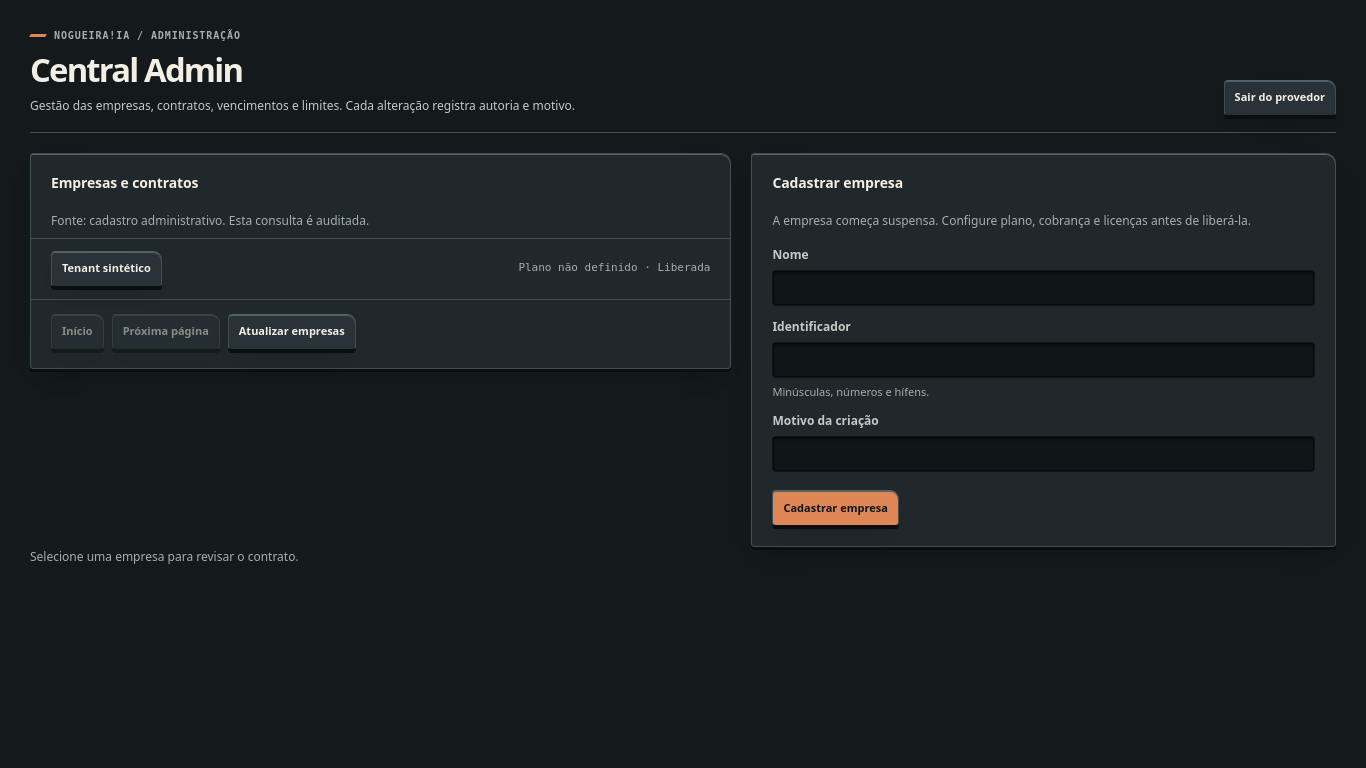
Test: entitlement changes carry the expected version and surface conflicts
Click the button "Tenant sintético".
click(106, 269)  # box left=51, top=251, right=162, bottom=287
(page scrolled)
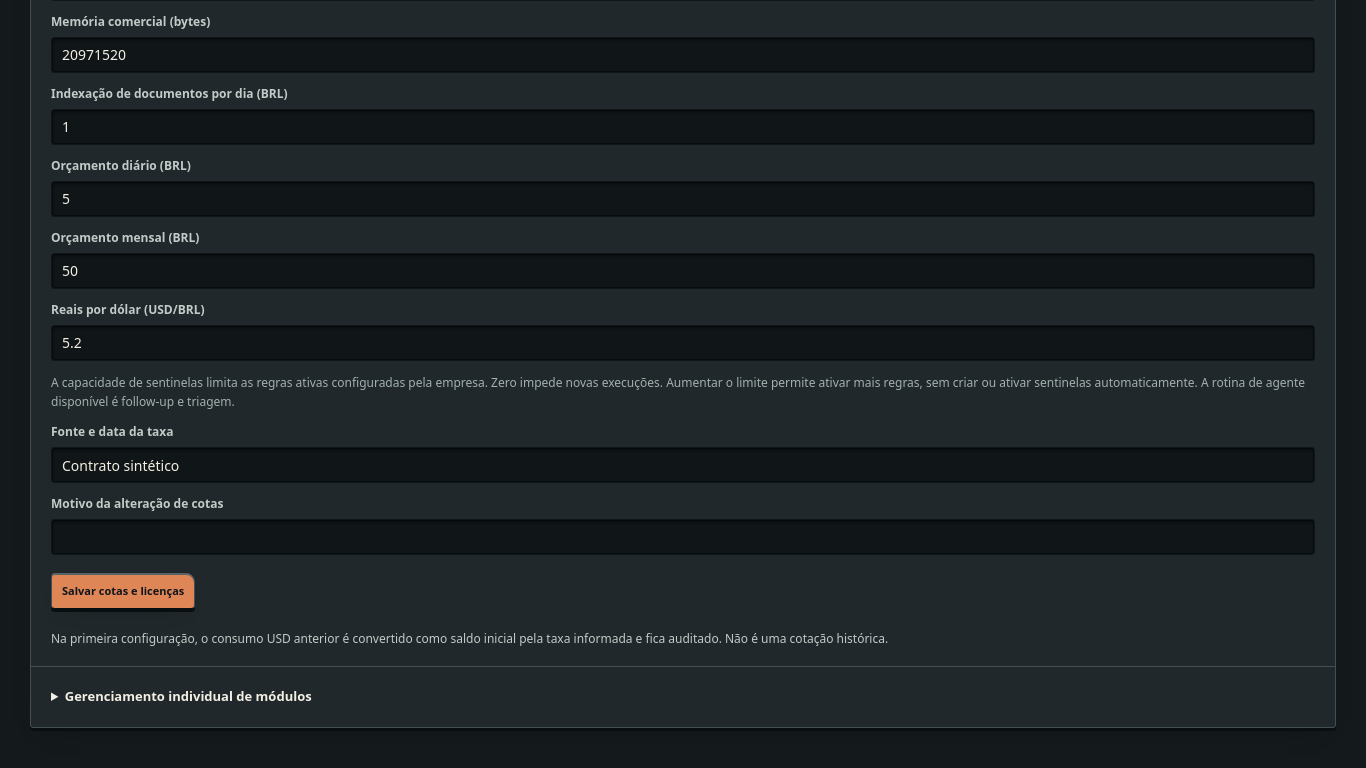
Click the heading "Gerenciamento individual de módulos".
click(188, 696)  # box left=65, top=687, right=312, bottom=705
(page scrolled)
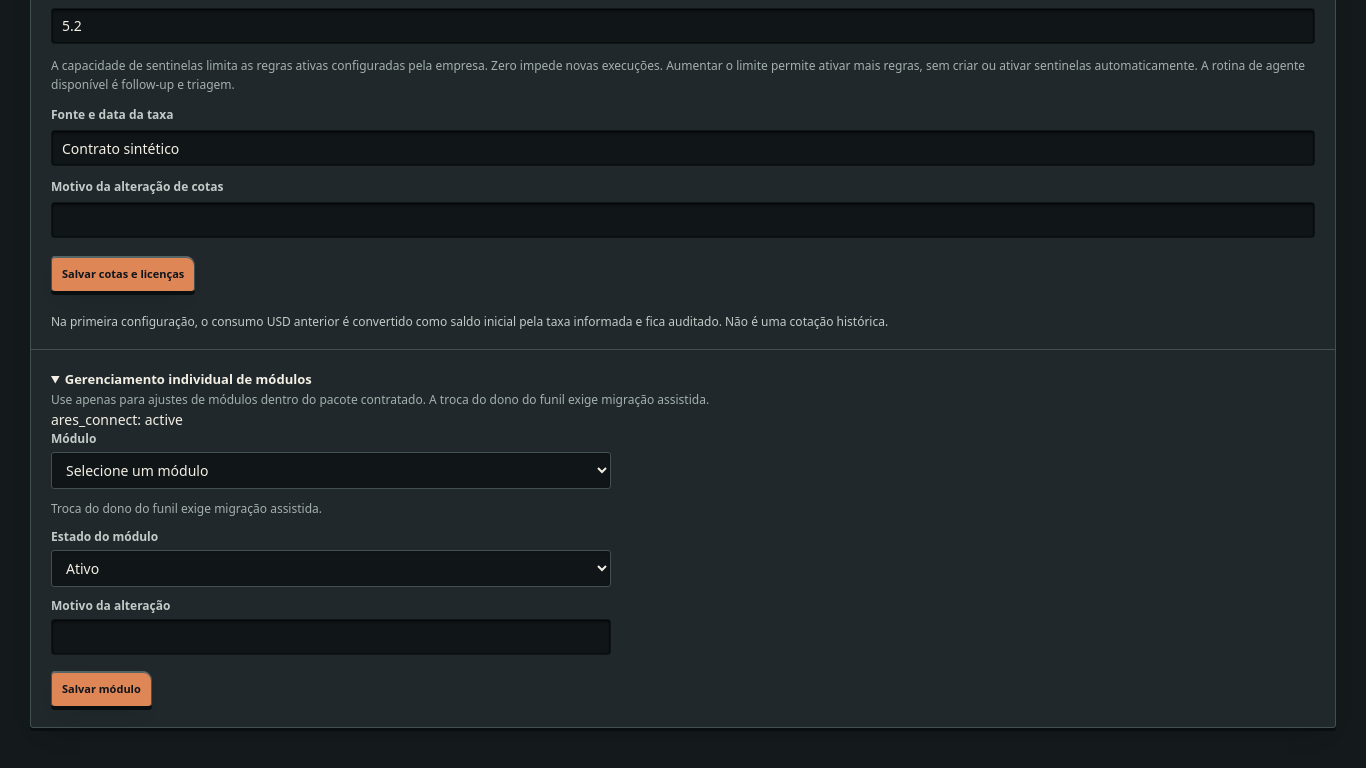
Select "STELLAR" in the dropdown labelled "Módulo" at (331, 471), box left=51, top=452, right=611, bottom=489
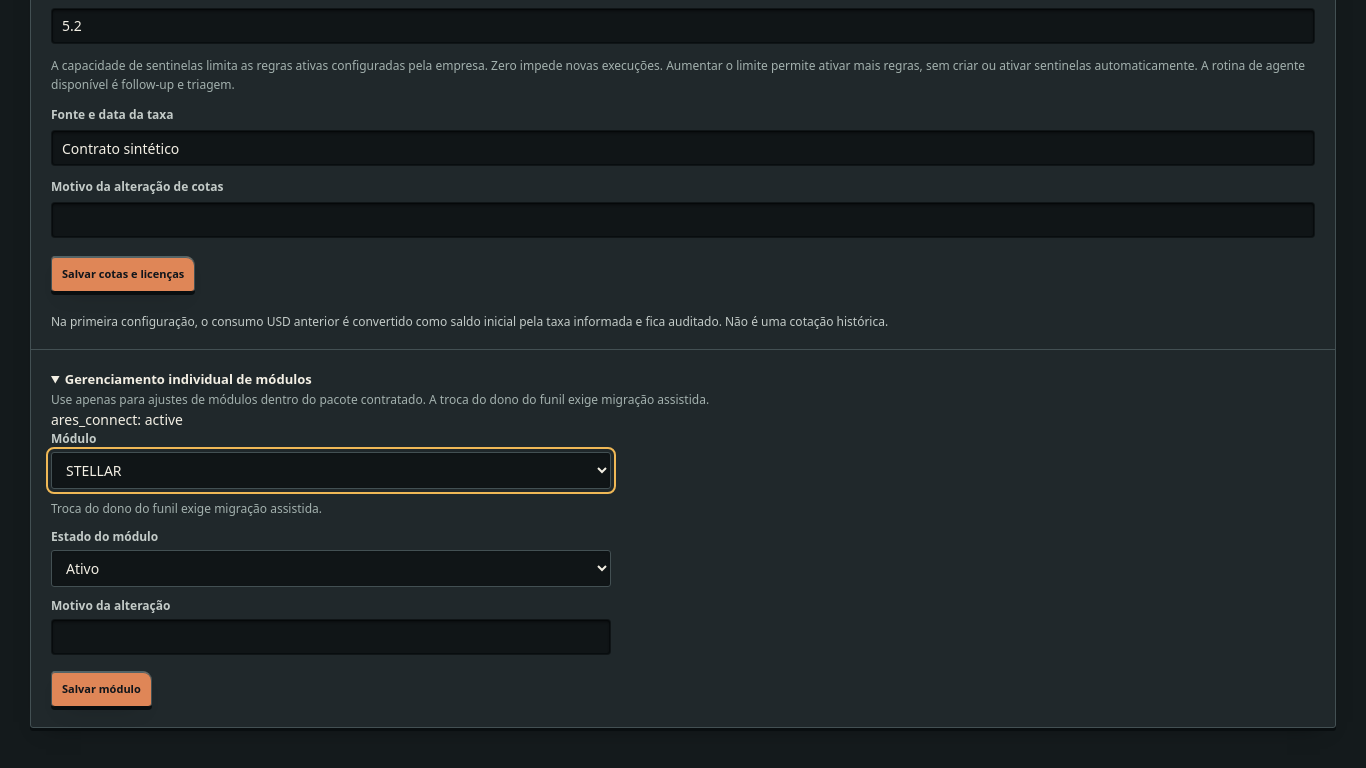
Select "Suspenso" in the dropdown labelled "Estado do módulo" at (331, 569), box left=51, top=550, right=611, bottom=587
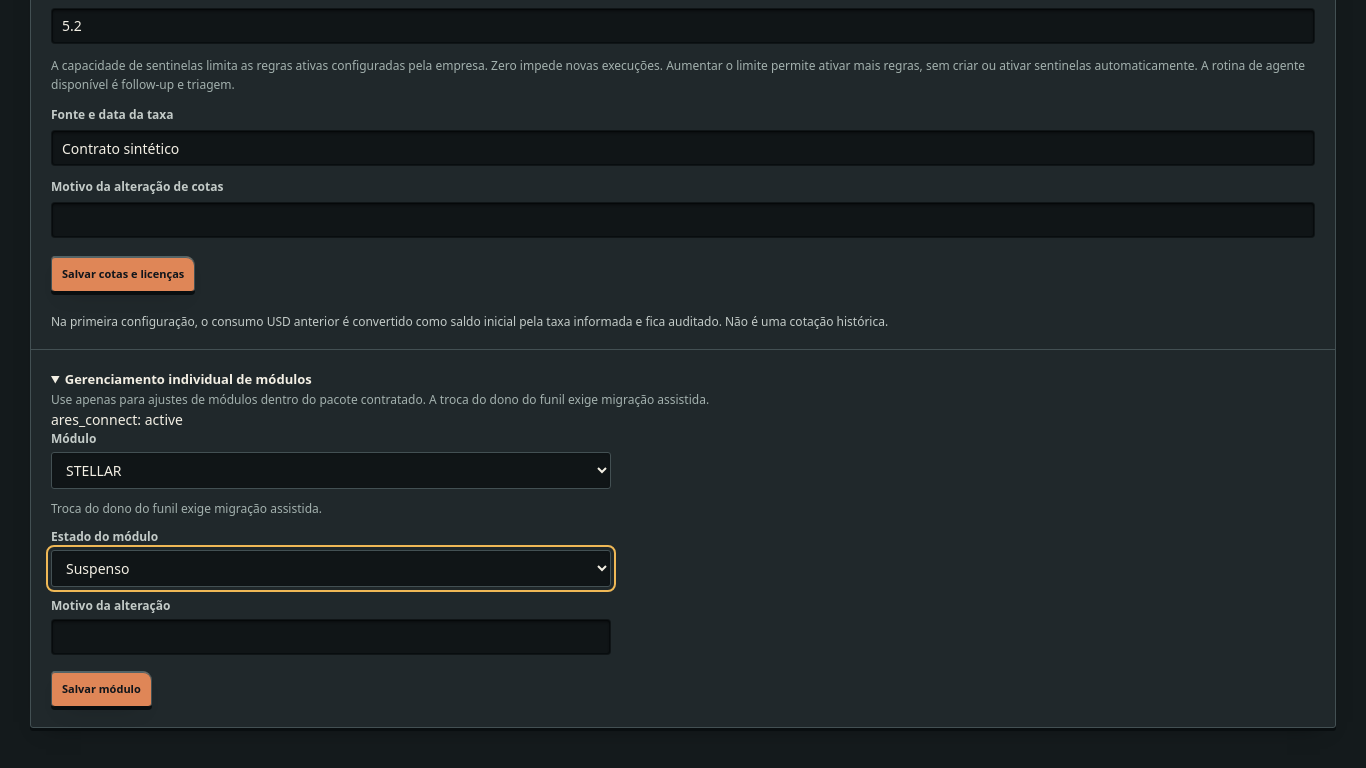
Type "Suspensão contratual" into the field labelled "Motivo da alteração".
click(331, 637); type("Suspensão contratual")  # box left=51, top=619, right=611, bottom=655
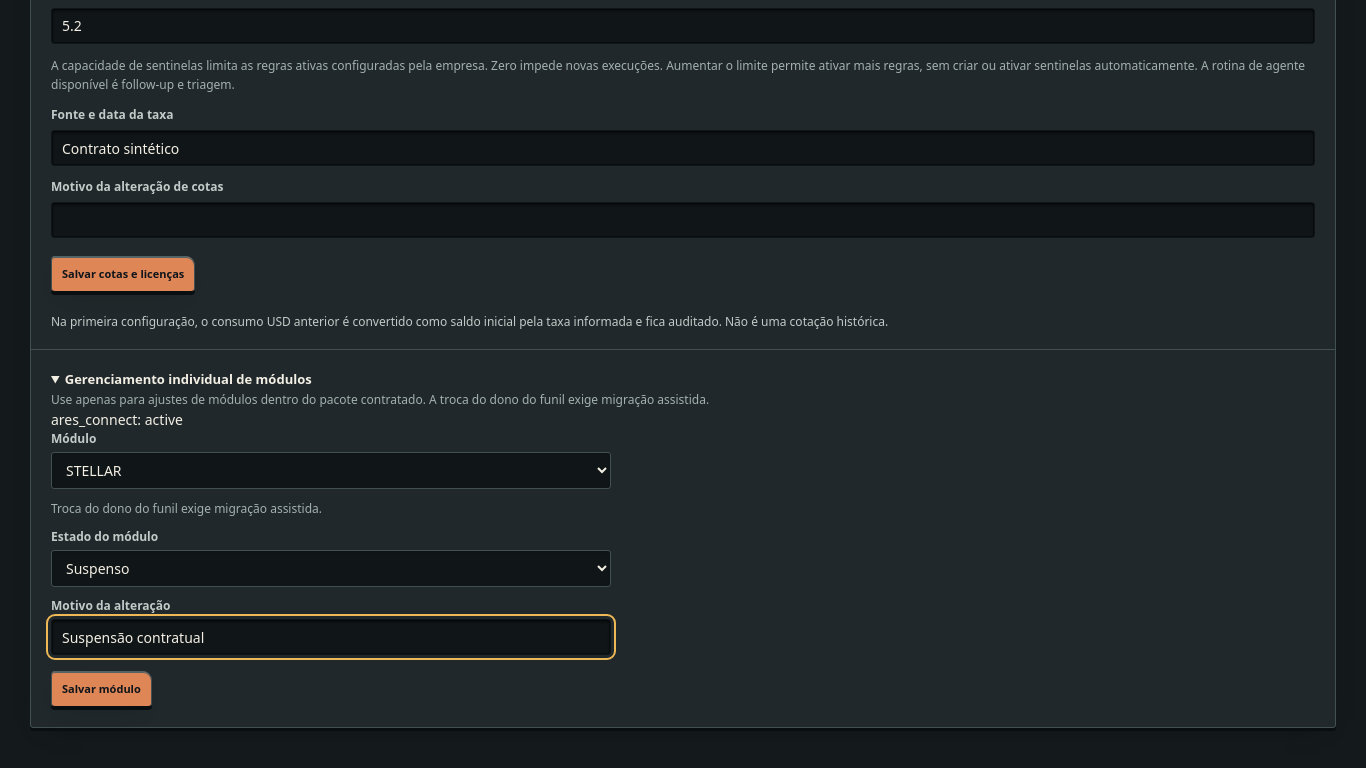
Click the button "Salvar módulo".
click(101, 689)  # box left=51, top=671, right=152, bottom=707
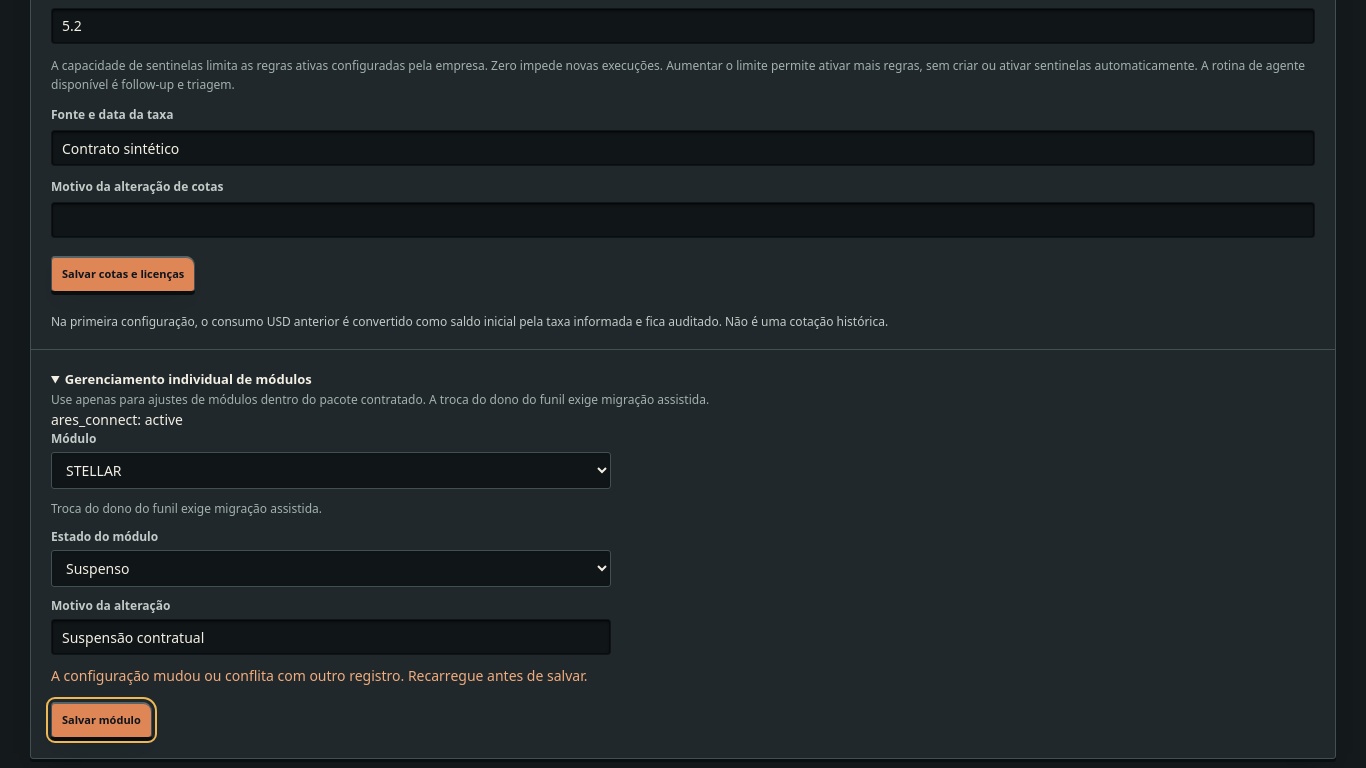
Now the text "A configuração mudou ou conflita com outro registro. Recarregue antes de salvar." is shown, box left=51, top=665, right=611, bottom=686
